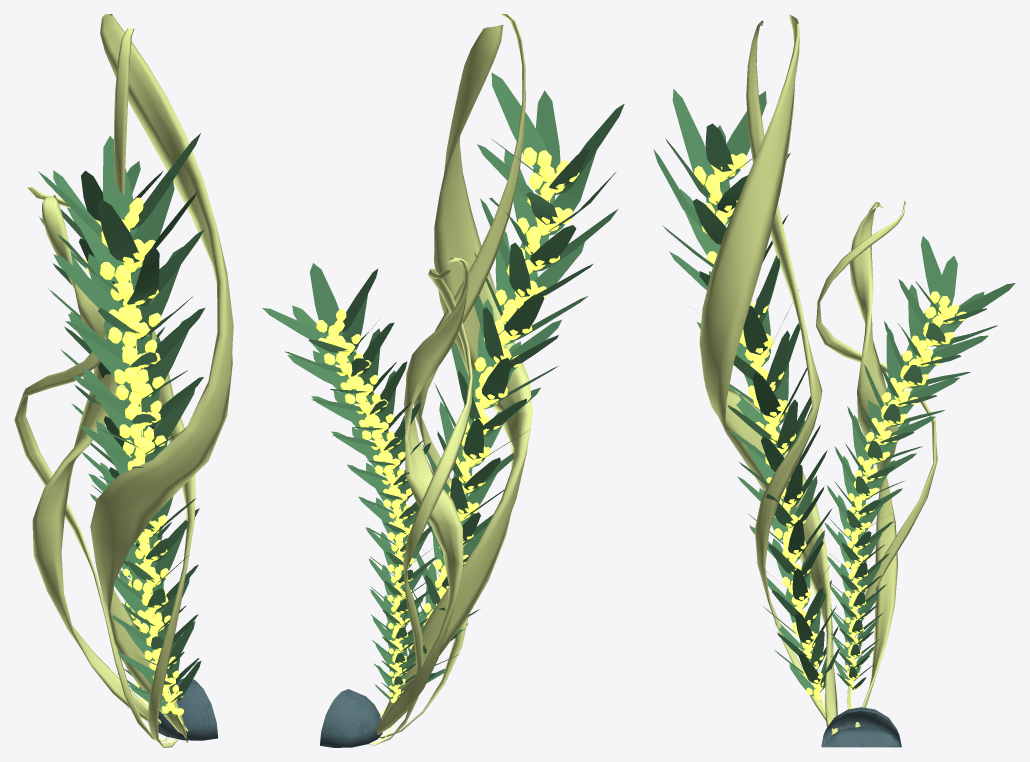
Rendered from WallPlanter (1).fbx.
3 renders of one model, left to right at view 1: azimuth 30°, elevation 25°; view 2: azimuth 150°, elevation 25°; view 3: azimuth 270°, elevation 25°, orthographic. The views are drawn at different scales.
Parts seen in each view (by area): view 1: Wall Planter.render; view 2: Wall Planter.render; view 3: Wall Planter.render.
Boxes of the visible parts, box(x1,y1,x2,y2) form: Wall Planter.render: box(14, 14, 233, 747); Wall Planter.render: box(262, 14, 624, 747); Wall Planter.render: box(653, 14, 1015, 747).
Size of the model in its own units: 3027 by 9650 by 4628.
Materials: 2 (1 with a texture image).
